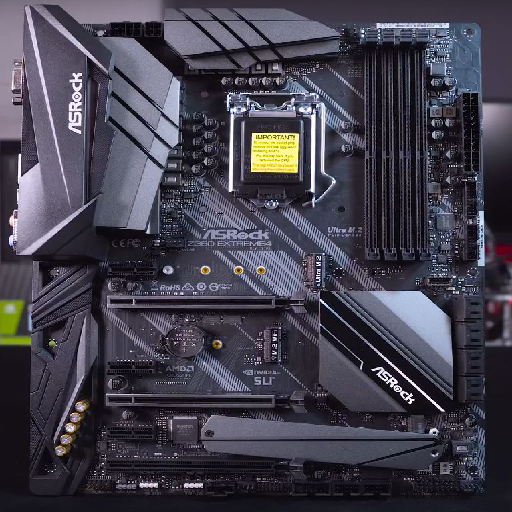CPU: (228, 91, 318, 211)
GPU: (103, 389, 308, 415), (104, 292, 309, 313)
MOTHERBOARD: (17, 19, 489, 497)
RAM: (362, 27, 433, 262)
SSD: (256, 325, 288, 365), (304, 251, 329, 295)
